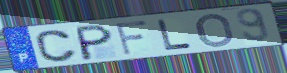9: (237, 8, 273, 46)
C: (33, 29, 79, 64)
F: (113, 19, 150, 57)
L: (156, 18, 195, 52)
O: (195, 12, 237, 49)
P: (76, 23, 115, 62)
